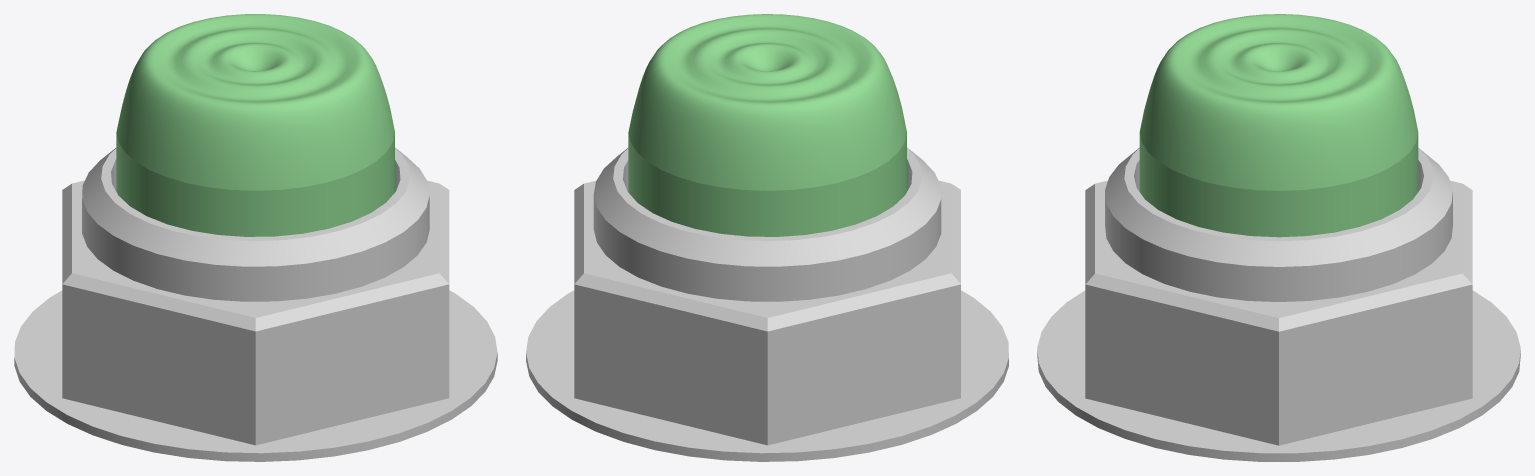
The model's file is button-3-o.obj.
The picture shows the model from 3 angles, left to right: view 1: azimuth 30°, elevation 25°; view 2: azimuth 150°, elevation 25°; view 3: azimuth 270°, elevation 25°; orthographic projection.
Visible parts, largest first — view 1: Body, Movable; view 2: Body, Movable; view 3: Body, Movable.
Boxes of the visible parts, x1=… form: Body: x1=14, y1=147, x2=497, y2=461; Movable: x1=116, y1=14, x2=394, y2=236; Body: x1=526, y1=147, x2=1008, y2=461; Movable: x1=628, y1=14, x2=906, y2=236; Body: x1=1037, y1=148, x2=1520, y2=461; Movable: x1=1139, y1=14, x2=1418, y2=237.
Size of the model in its own units: 4.99 by 3.44 by 5.
